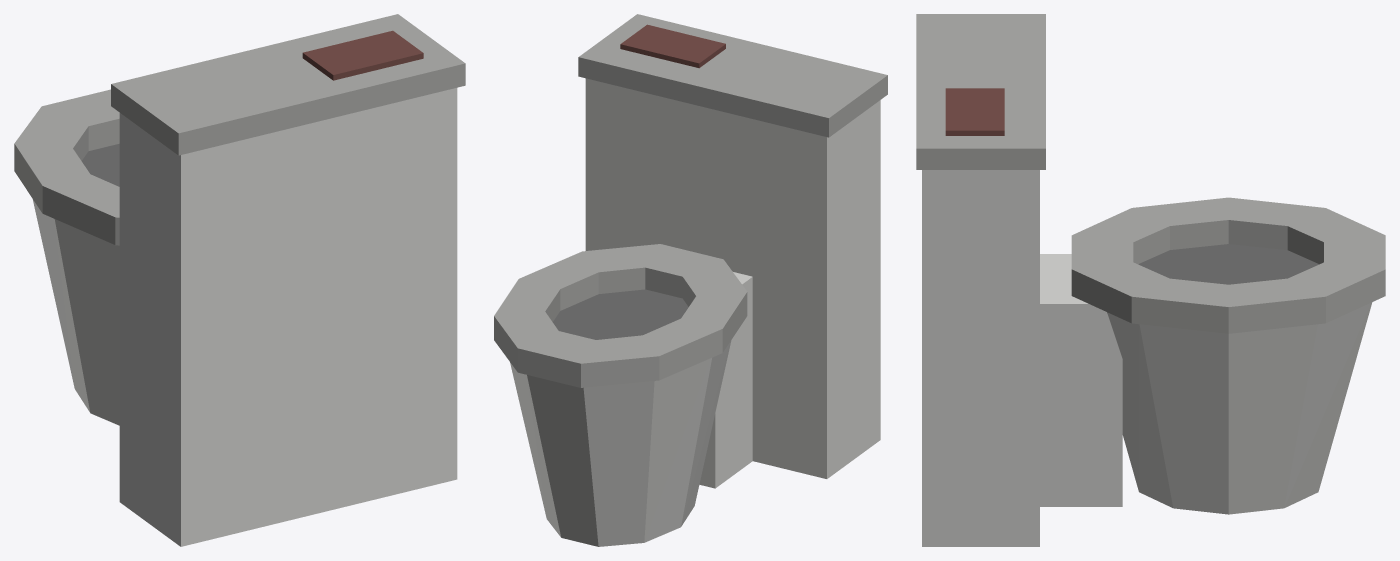
The model's file is oc_toilet.obj.
3 views of the same model, side by side, from view 1: azimuth 30°, elevation 25°; view 2: azimuth 150°, elevation 25°; view 3: azimuth 270°, elevation 25° (orthographic). The views are drawn at different scales.
Visible parts, largest first — view 1: oc_toilet_0, oc_toilet_1, oc_toilet_2, oc_toilet_25, oc_toilet_14, oc_toilet_8, oc_toilet_12, oc_toilet_10, oc_toilet_23, oc_toilet_13, oc_toilet_15; view 2: oc_toilet_0, oc_toilet_2, oc_toilet_1, oc_toilet_24, oc_toilet_23, oc_toilet_10, oc_toilet_25, oc_toilet_8, oc_toilet_12, oc_toilet_18, oc_toilet_20, oc_toilet_6 (+10 smaller); view 3: oc_toilet_0, oc_toilet_2, oc_toilet_24, oc_toilet_1, oc_toilet_23, oc_toilet_4, oc_toilet_22, oc_toilet_25, oc_toilet_20, oc_toilet_6, oc_toilet_12, oc_toilet_10 (+10 smaller).
Part boxes in pixels (left/top/right/bottom): oc_toilet_0: left=119, top=88, right=457, bottom=546; oc_toilet_1: left=111, top=14, right=465, bottom=155; oc_toilet_2: left=32, top=199, right=119, bottom=425; oc_toilet_25: left=302, top=30, right=423, bottom=80; oc_toilet_14: left=42, top=181, right=119, bottom=235; oc_toilet_8: left=47, top=90, right=119, bottom=150; oc_toilet_12: left=14, top=143, right=89, bottom=200; oc_toilet_10: left=20, top=106, right=86, bottom=160; oc_toilet_23: left=81, top=143, right=119, bottom=186; oc_toilet_13: left=34, top=173, right=105, bottom=213; oc_toilet_15: left=94, top=199, right=119, bottom=244; oc_toilet_0: left=585, top=78, right=880, bottom=478; oc_toilet_2: left=510, top=340, right=731, bottom=546; oc_toilet_1: left=578, top=14, right=887, bottom=137; oc_toilet_24: left=699, top=272, right=752, bottom=488; oc_toilet_23: left=552, top=289, right=688, bottom=339; oc_toilet_10: left=581, top=335, right=642, bottom=387; oc_toilet_25: left=620, top=24, right=725, bottom=68; oc_toilet_8: left=522, top=331, right=595, bottom=386; oc_toilet_12: left=653, top=318, right=704, bottom=380; oc_toilet_18: left=650, top=244, right=722, bottom=297; oc_toilet_20: left=582, top=245, right=648, bottom=292; oc_toilet_6: left=499, top=311, right=556, bottom=372; oc_toilet_0: left=922, top=170, right=1039, bottom=546; oc_toilet_2: left=1107, top=302, right=1372, bottom=514; oc_toilet_24: left=1040, top=254, right=1122, bottom=506; oc_toilet_1: left=916, top=14, right=1045, bottom=169; oc_toilet_23: left=1138, top=244, right=1318, bottom=284; oc_toilet_4: left=1229, top=280, right=1325, bottom=330; oc_toilet_22: left=1160, top=278, right=1228, bottom=333; oc_toilet_25: left=945, top=88, right=1004, bottom=135; oc_toilet_20: left=1080, top=262, right=1157, bottom=323; oc_toilet_6: left=1288, top=264, right=1385, bottom=317; oc_toilet_12: left=1228, top=200, right=1324, bottom=248; oc_toilet_10: left=1287, top=213, right=1384, bottom=264.
Bounding box in the file's own units: 0.54 × 0.76 × 0.7963.
